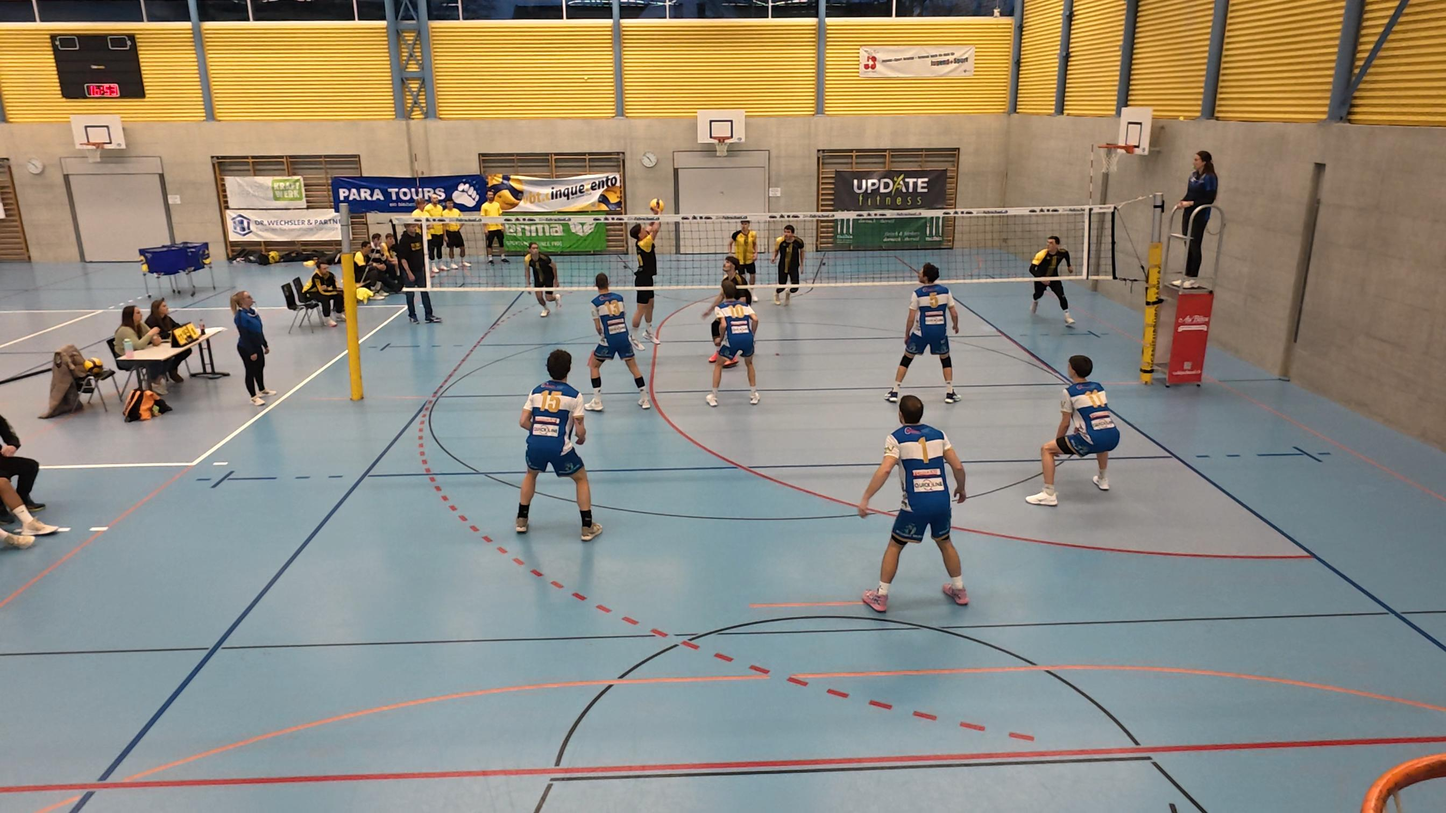Player: (859, 397, 969, 610), (515, 350, 597, 541), (1026, 354, 1120, 505), (887, 264, 960, 406), (583, 278, 650, 409), (704, 287, 762, 405), (702, 255, 752, 370), (1024, 235, 1081, 330), (522, 241, 561, 325), (773, 219, 804, 309), (728, 220, 761, 304)
Set: (626, 210, 667, 360)
ball: (645, 197, 666, 217)
